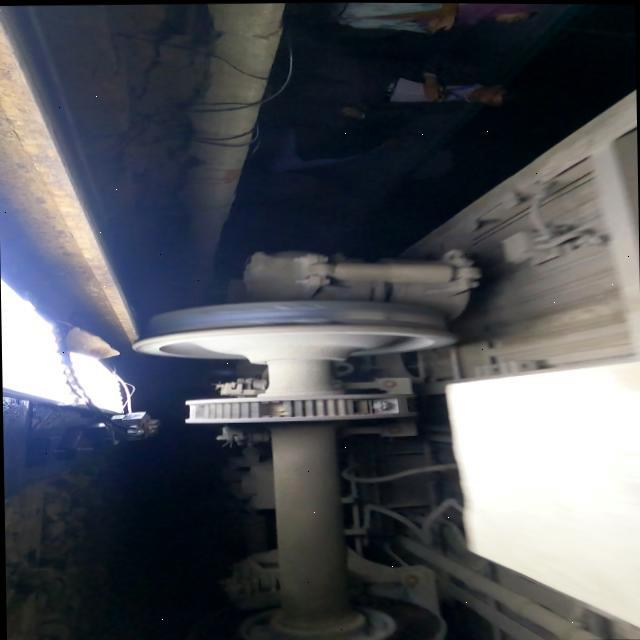Cracks-Scratches: (290, 317, 325, 324), (299, 302, 329, 310), (245, 318, 271, 324)
Shelling: (345, 307, 444, 328)
Wheel: (130, 299, 456, 363)
